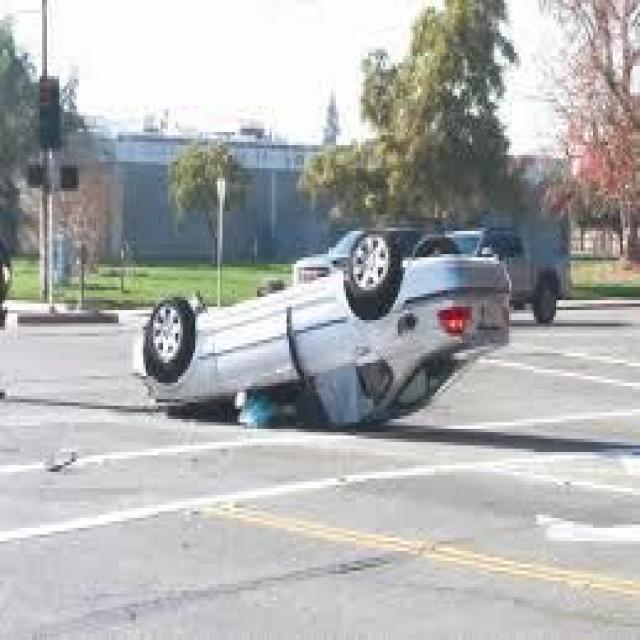single accident: (109, 242, 507, 420)
